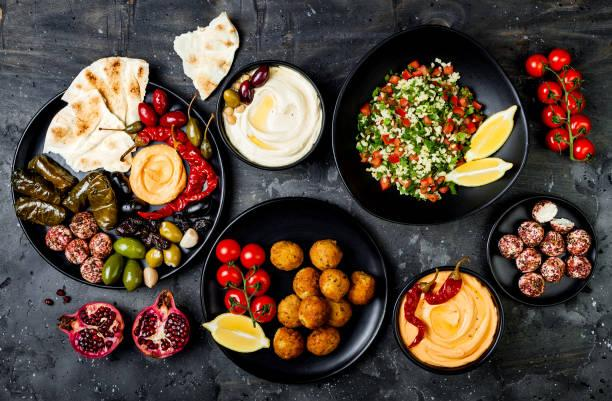Braised Crucian Carp: (10, 59, 225, 294), (334, 23, 526, 225), (196, 192, 390, 388), (486, 194, 596, 305)
